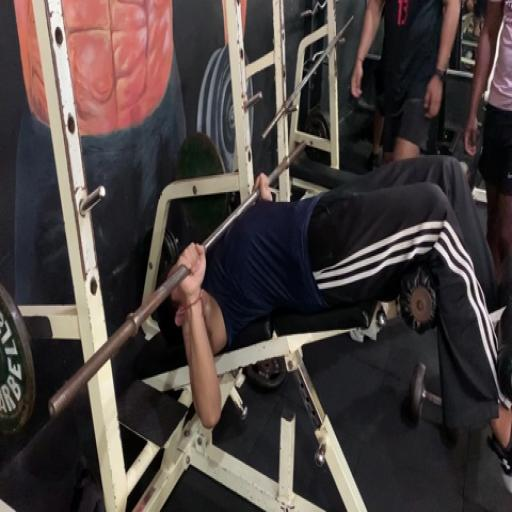exercise: (163, 155, 511, 499)
